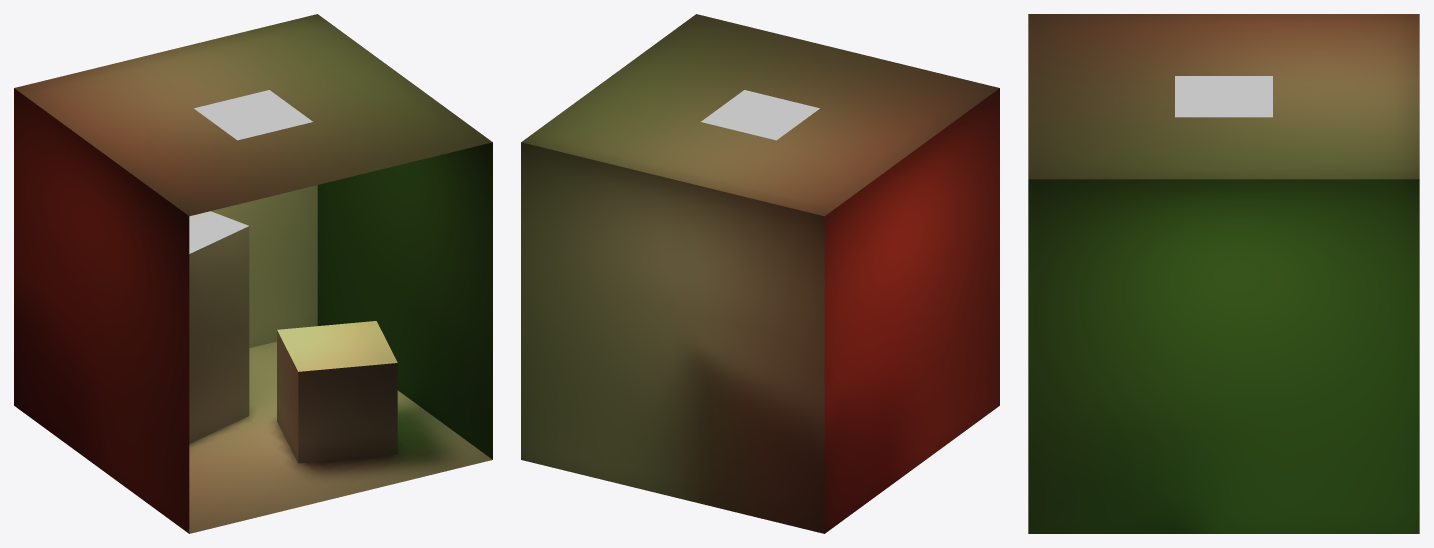
Rendered from cornell_radiosity.obj.
The picture shows the model from 3 angles, left to right: view 1: azimuth 30°, elevation 25°; view 2: azimuth 150°, elevation 25°; view 3: azimuth 270°, elevation 25°; orthographic projection. The views are drawn at different scales.
Bounding box in the file's own units: 1 × 1 × 1.
